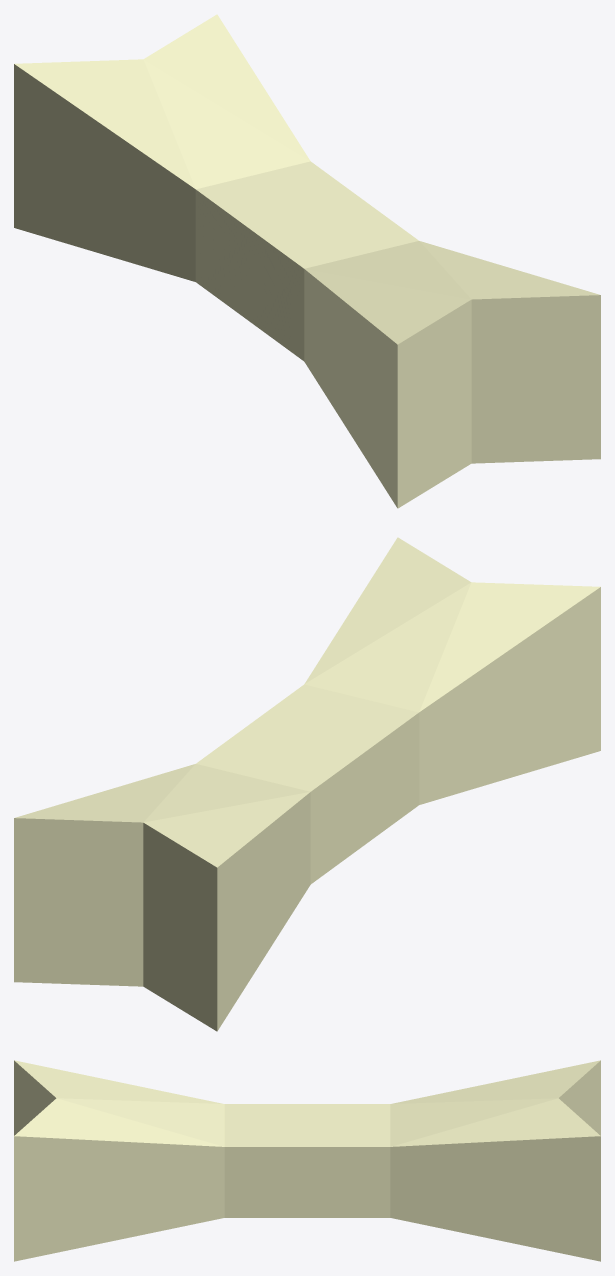
File: Bone.obj
3 renders of one model, top to bottom at view 1: azimuth 30°, elevation 25°; view 2: azimuth 150°, elevation 25°; view 3: azimuth 270°, elevation 25°, orthographic. The views are drawn at different scales.
Visible parts, largest first — view 1: Cube; view 2: Cube; view 3: Cube.
Part boxes in pixels (x1=…): Cube: x1=14, y1=14, x2=600, y2=508; Cube: x1=14, y1=537, x2=600, y2=1031; Cube: x1=14, y1=1060, x2=600, y2=1261.
Bounding box in the file's own units: 0.6117 × 0.4719 × 2.
1 material, 1 textured.
